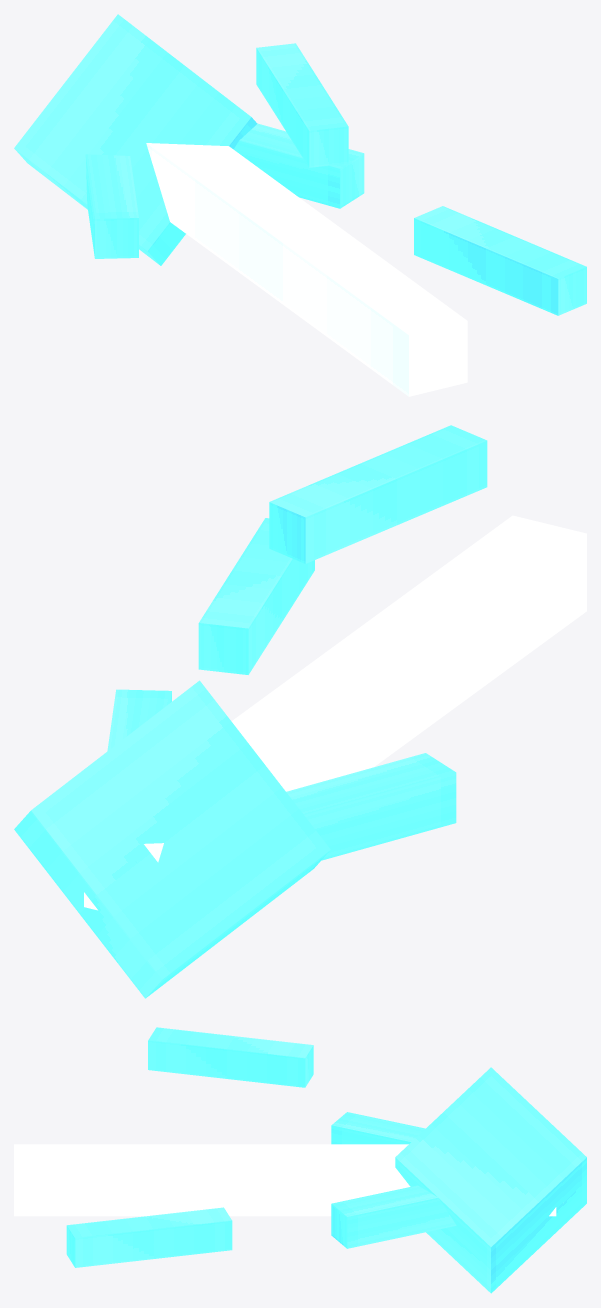
Rendered from projectile_ice_blue.gltf.
3 renders of one model, top to bottom at view 1: azimuth 30°, elevation 25°; view 2: azimuth 150°, elevation 25°; view 3: azimuth 270°, elevation 25°, orthographic. The views are drawn at different scales.
Visible parts, largest first — view 1: core_mesh; view 2: core_mesh; view 3: core_mesh.
Boxes of the visible parts, x1,y1,x2,y2 form: core_mesh: (14, 14, 586, 396); core_mesh: (14, 425, 586, 998); core_mesh: (14, 1027, 586, 1293).
Bounding box in the file's own units: 0.3418 × 0.3084 × 0.6605.
1 material, 1 textured.
